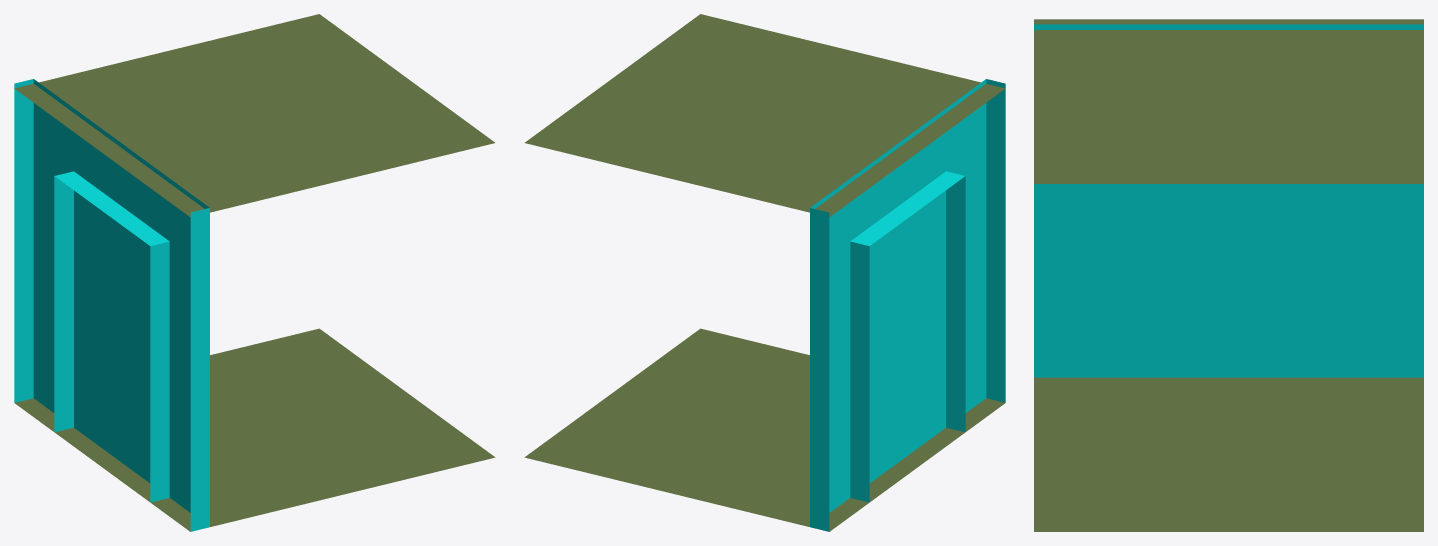
File: RoomPartsBP.fbx
The picture shows the model from 3 angles, left to right: view 1: azimuth 30°, elevation 25°; view 2: azimuth 150°, elevation 25°; view 3: azimuth 270°, elevation 25°; orthographic projection. The views are drawn at different scales.
Parts seen in each view (by area): view 1: floors (×2), innerWall (×3); view 2: floors (×2), innerWall (×3); view 3: floors (×2), innerWall (×3).
Boxes of the visible parts, x1,y1,x2,y2 form: floors (×2): [14, 14, 495, 531]; innerWall (×3): [14, 79, 209, 531]; floors (×2): [524, 14, 1005, 531]; innerWall (×3): [810, 79, 1005, 531]; floors (×2): [1034, 19, 1423, 531]; innerWall (×3): [1034, 24, 1423, 377].
Bounding box in the file's own units: 1 × 1 × 1.
